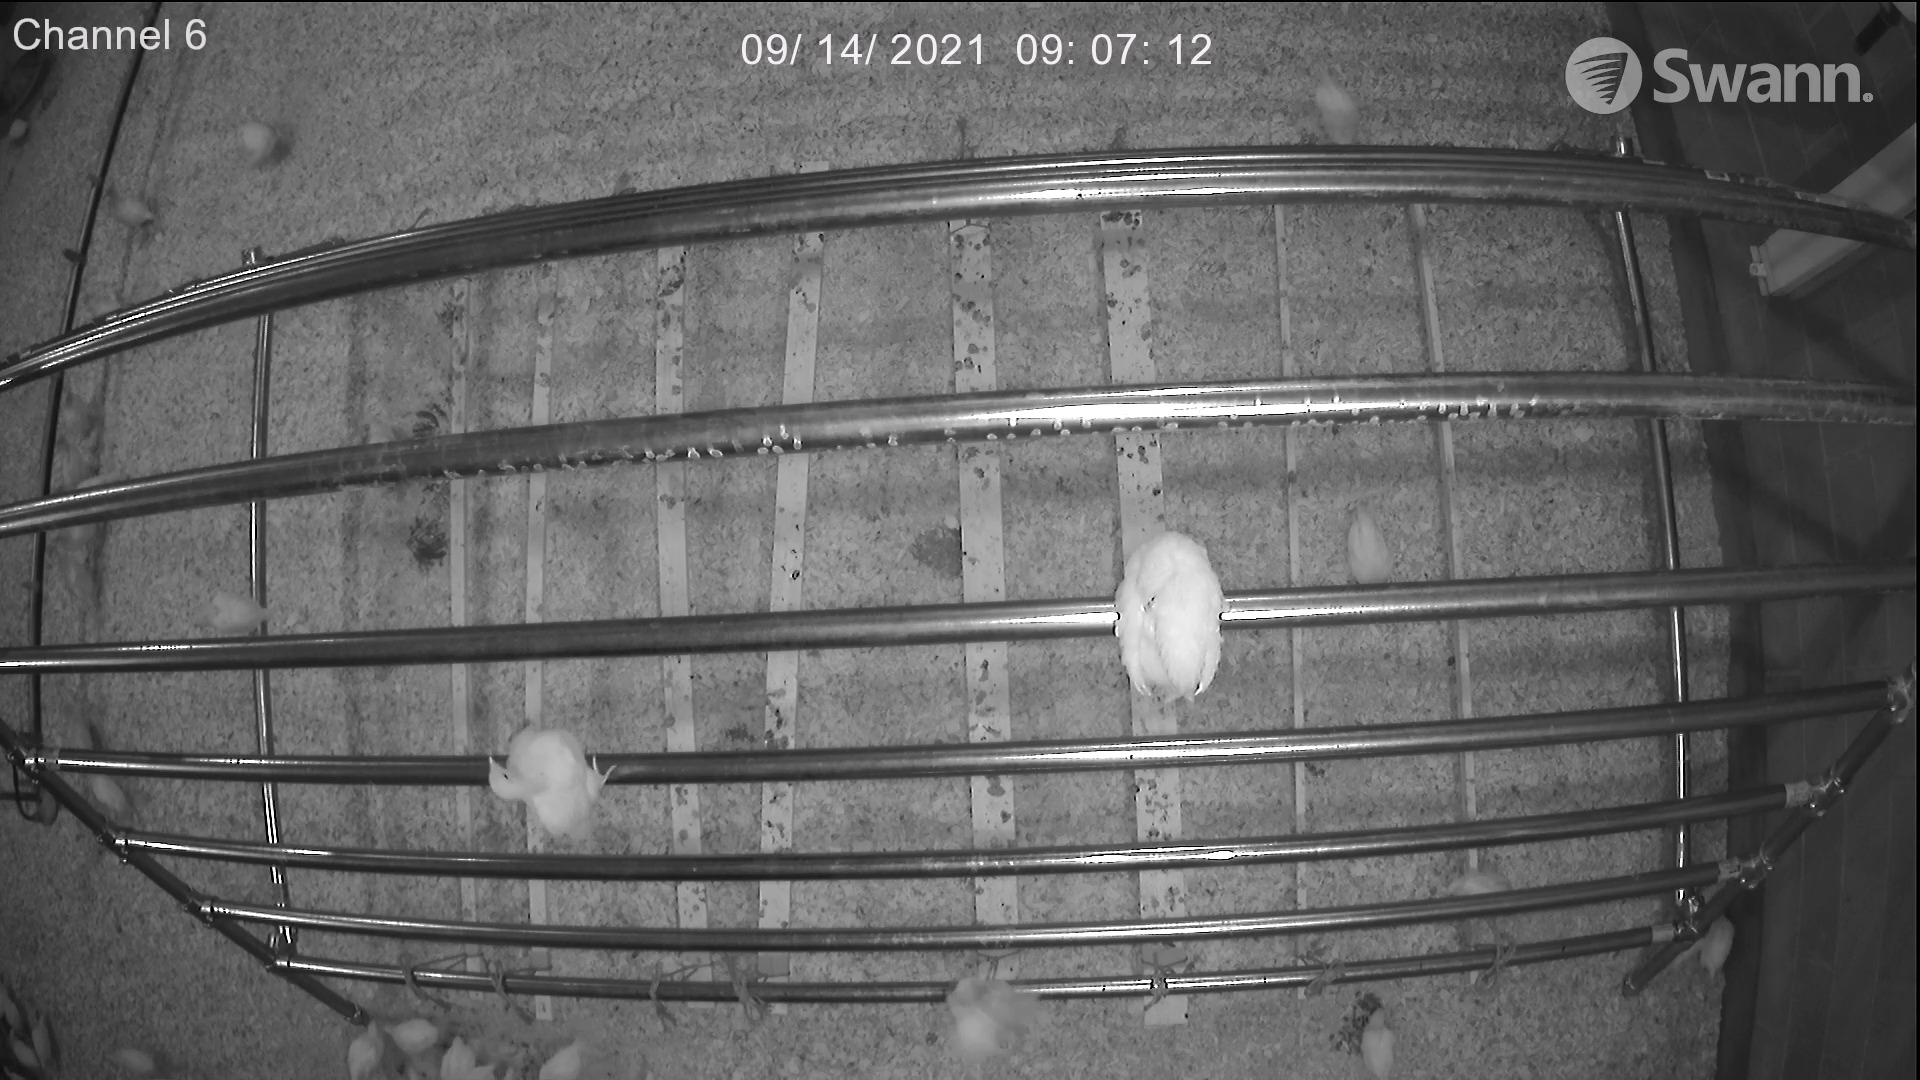Perching: (1064, 526, 1244, 719), (448, 698, 638, 847), (154, 575, 291, 640)
